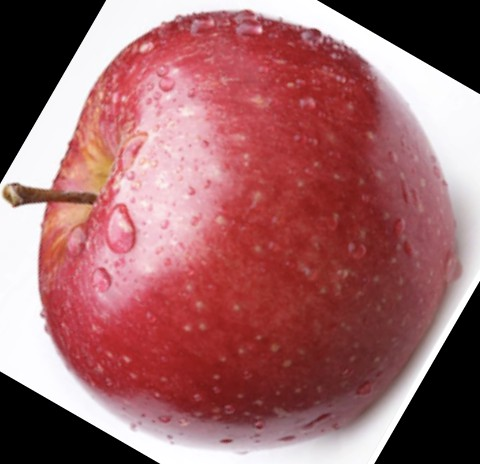fresh_apple: (37, 9, 461, 455)
